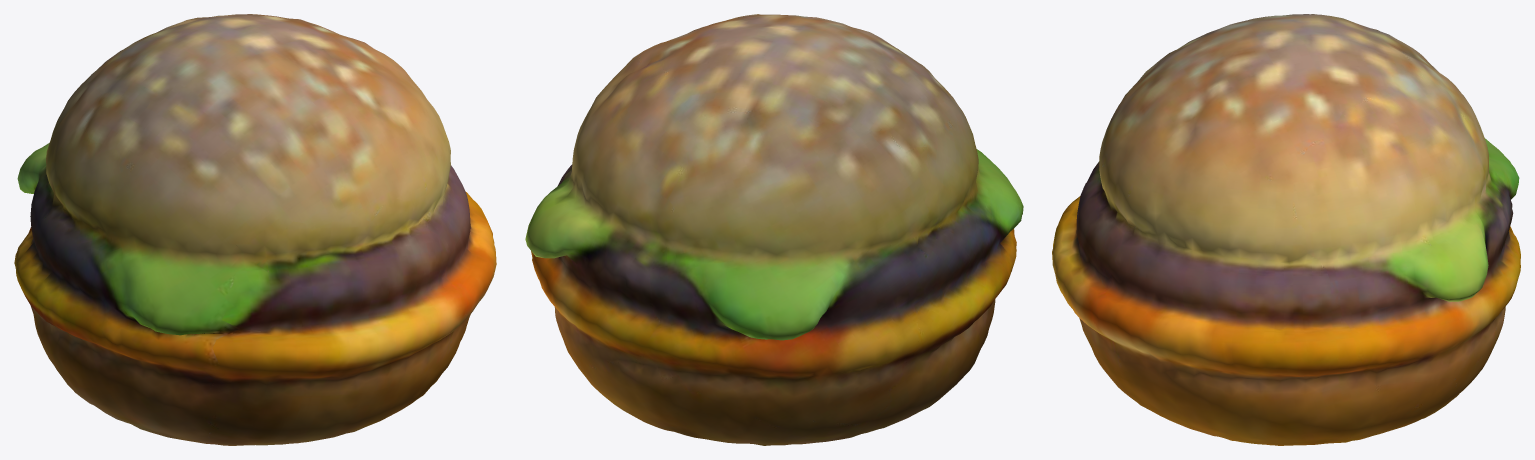
The model's file is Can_you_generate_for_a_me_a_realistic_bottom_burger_bun__0604202836_preview.obj.
3 renders of one model, left to right at view 1: azimuth 30°, elevation 25°; view 2: azimuth 150°, elevation 25°; view 3: azimuth 270°, elevation 25°, orthographic.
Parts seen in each view (by area): view 1: Mesh1; view 2: Mesh1; view 3: Mesh1.
Boxes of the visible parts, x1,y1,x2,y2 form: Mesh1: [14, 14, 496, 445]; Mesh1: [525, 14, 1023, 445]; Mesh1: [1052, 14, 1520, 445].
Bounding box in the file's own units: 1.2 × 1.02 × 1.18.
1 material, 1 textured.
